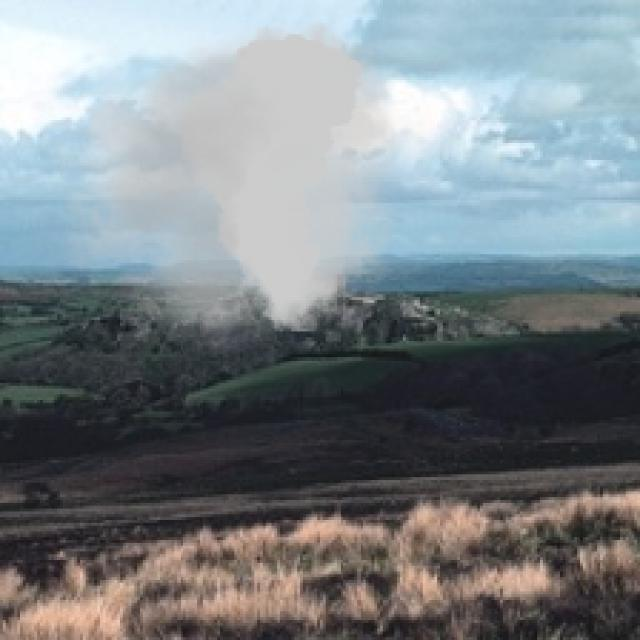smoke: (43, 12, 426, 354)
